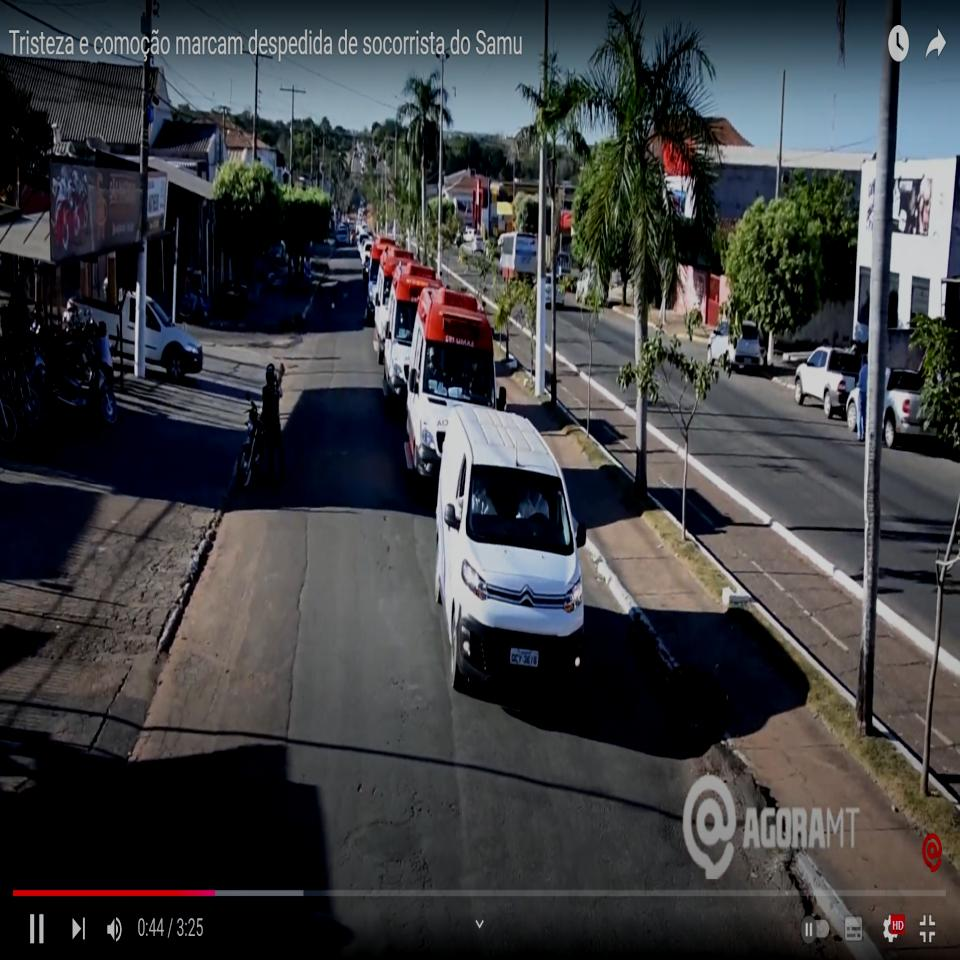ambulancia: (405, 288, 507, 496), (381, 266, 436, 414)
